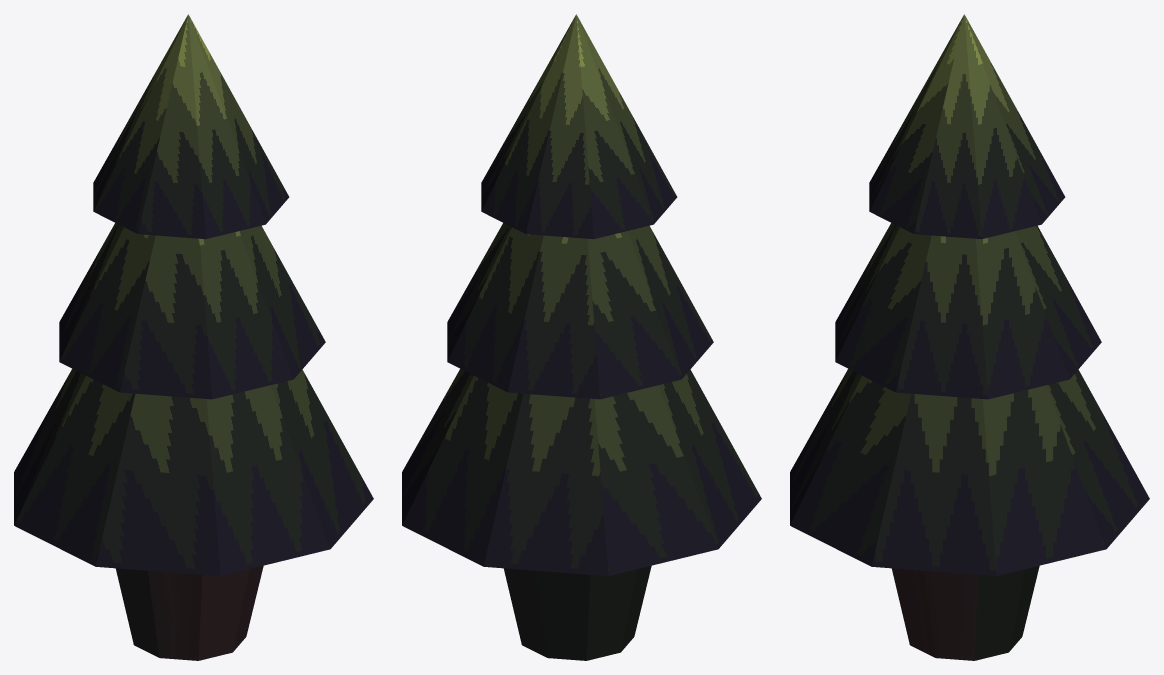
The model's file is prop_tree 3.obj.
The picture shows the model from 3 angles, left to right: view 1: azimuth 30°, elevation 25°; view 2: azimuth 150°, elevation 25°; view 3: azimuth 270°, elevation 25°; orthographic projection.
Parts seen in each view (by area): view 1: Tree_3; view 2: Tree_3; view 3: Tree_3.
Part boxes in pixels (x1=…): Tree_3: x1=14, y1=14, x2=373, y2=660; Tree_3: x1=402, y1=14, x2=761, y2=660; Tree_3: x1=790, y1=14, x2=1149, y2=660.
Size of the model in its own units: 1.97 by 3.7 by 1.94.
